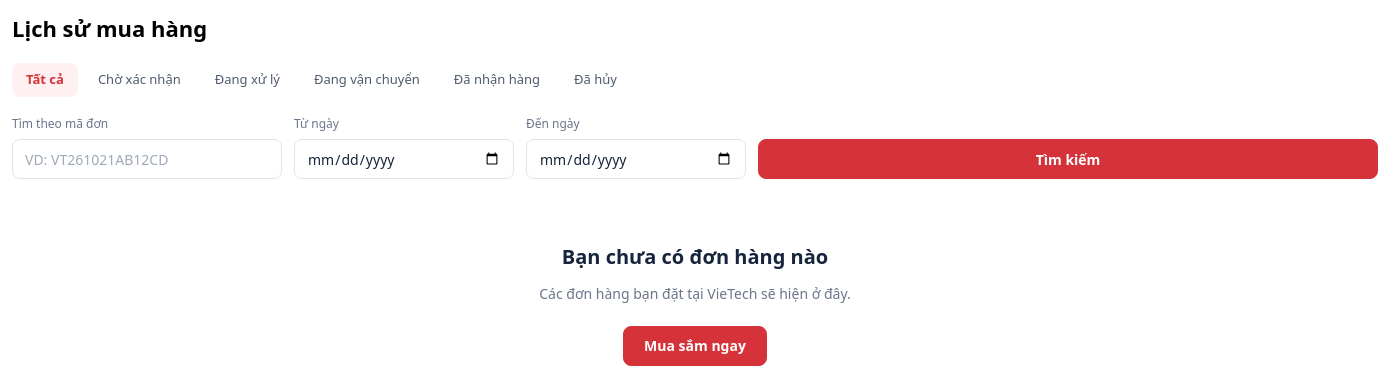
order history › says when there are no orders yet, when filters match none, and lets a failed load be retried
The image size is (1390, 383).
Expected: the heading "Bạn chưa có đơn hàng nào" is shown, x1=562 y1=243 x2=828 y2=271
Click the button "Đã hủy" at (595, 80), box x1=560 y1=63 x2=631 y2=97
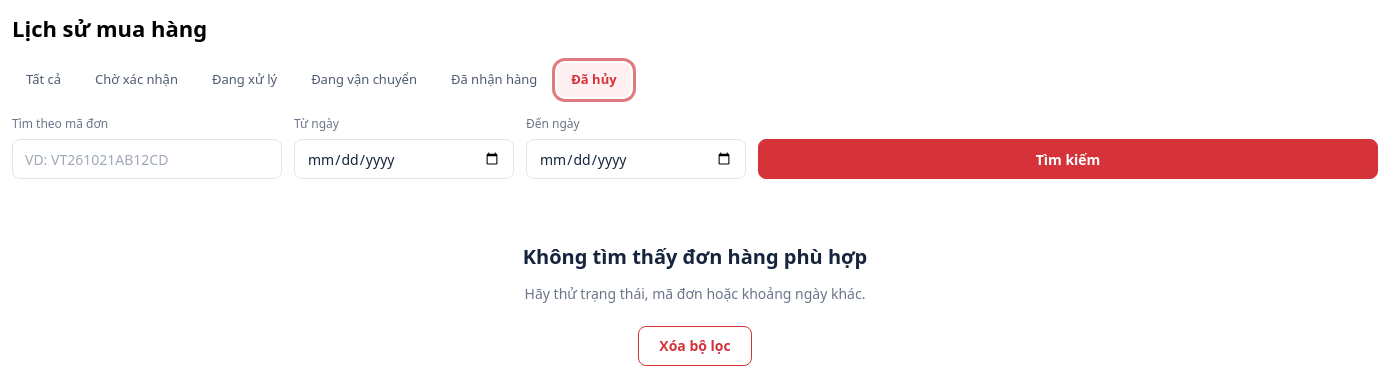
Expected: the heading "Không tìm thấy đơn hàng phù hợp" is shown, x1=523 y1=243 x2=867 y2=271
Click the button "Xóa bộ lọc" at (695, 346), box x1=638 y1=326 x2=752 y2=366
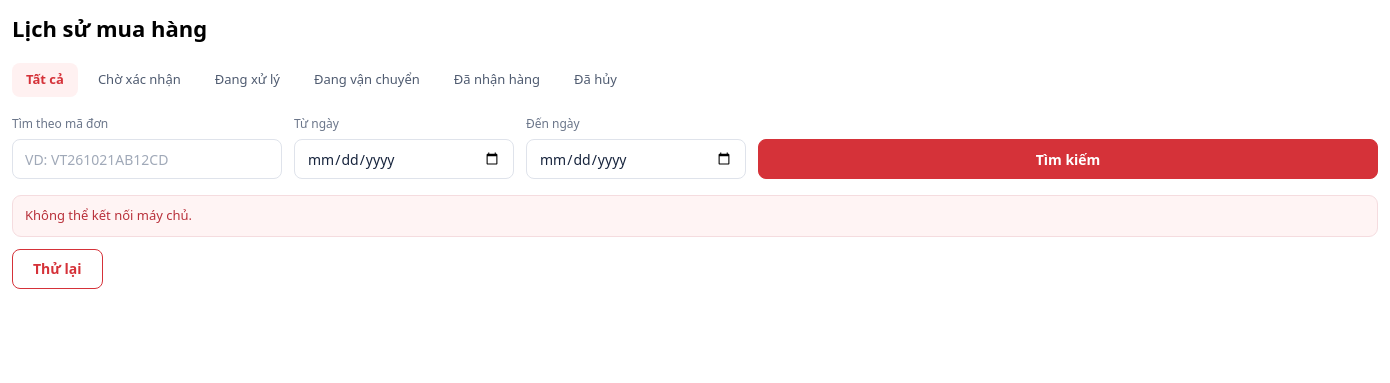
Expected: the message reads "Không thể kết nối máy chủ.", x1=25 y1=206 x2=192 y2=224
Click the button "Thử lại" at (57, 268), box x1=12 y1=248 x2=103 y2=288
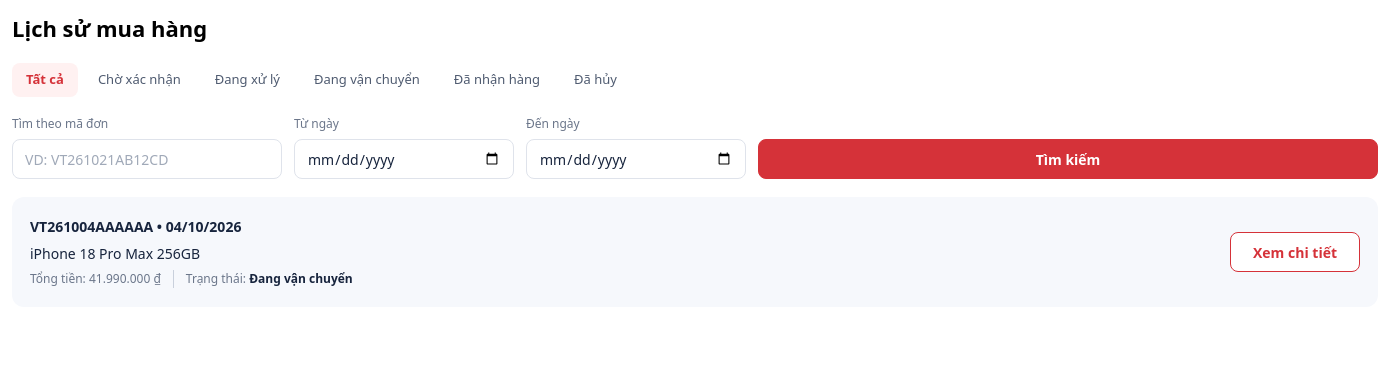
Expected: the text "VT261004AAAAAA • 04/10/2026" is shown, x1=30 y1=217 x2=241 y2=236
